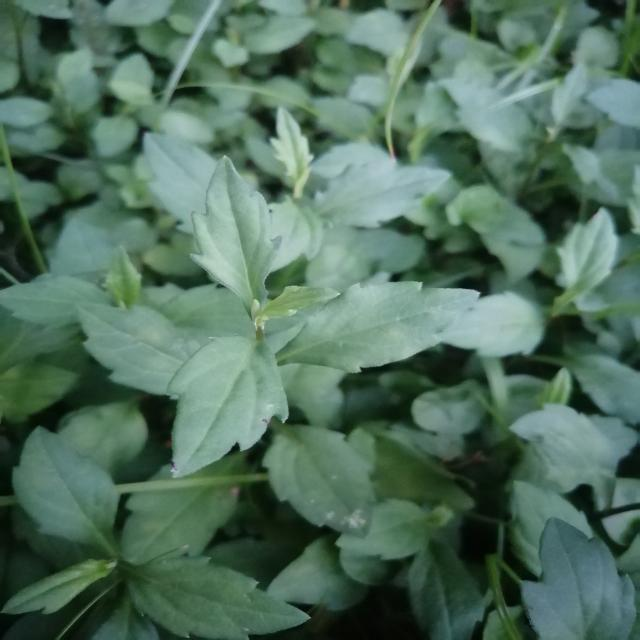Indian aster: (122, 210, 458, 526)
